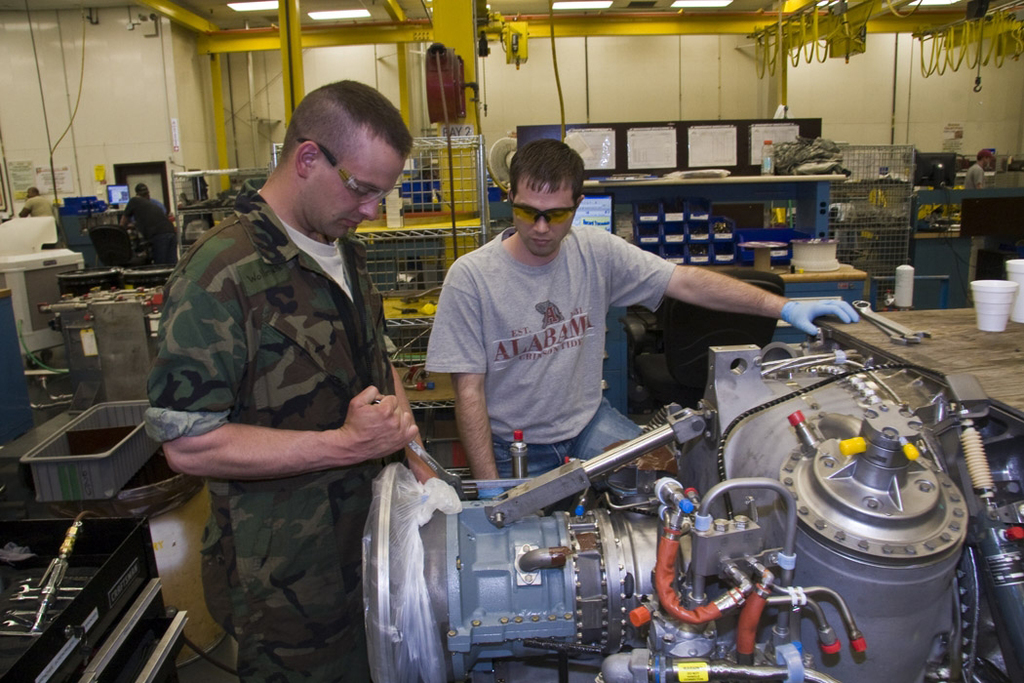Person: (138, 75, 439, 683), (427, 138, 859, 479)
